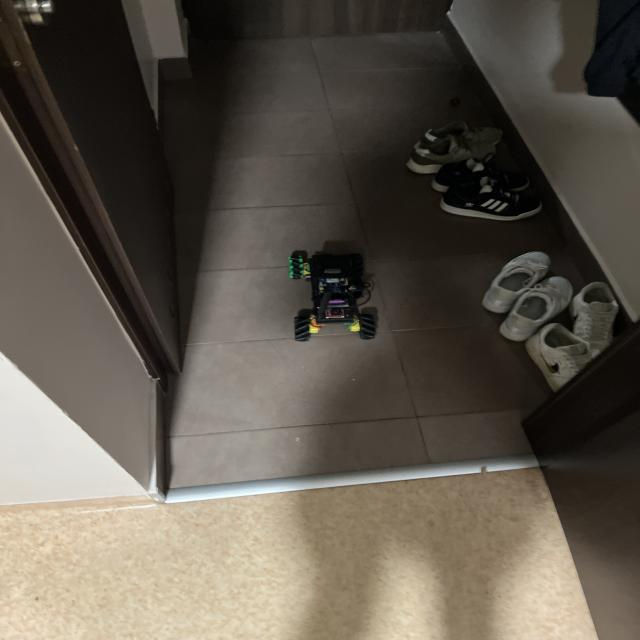robot: (288, 251, 377, 341)
